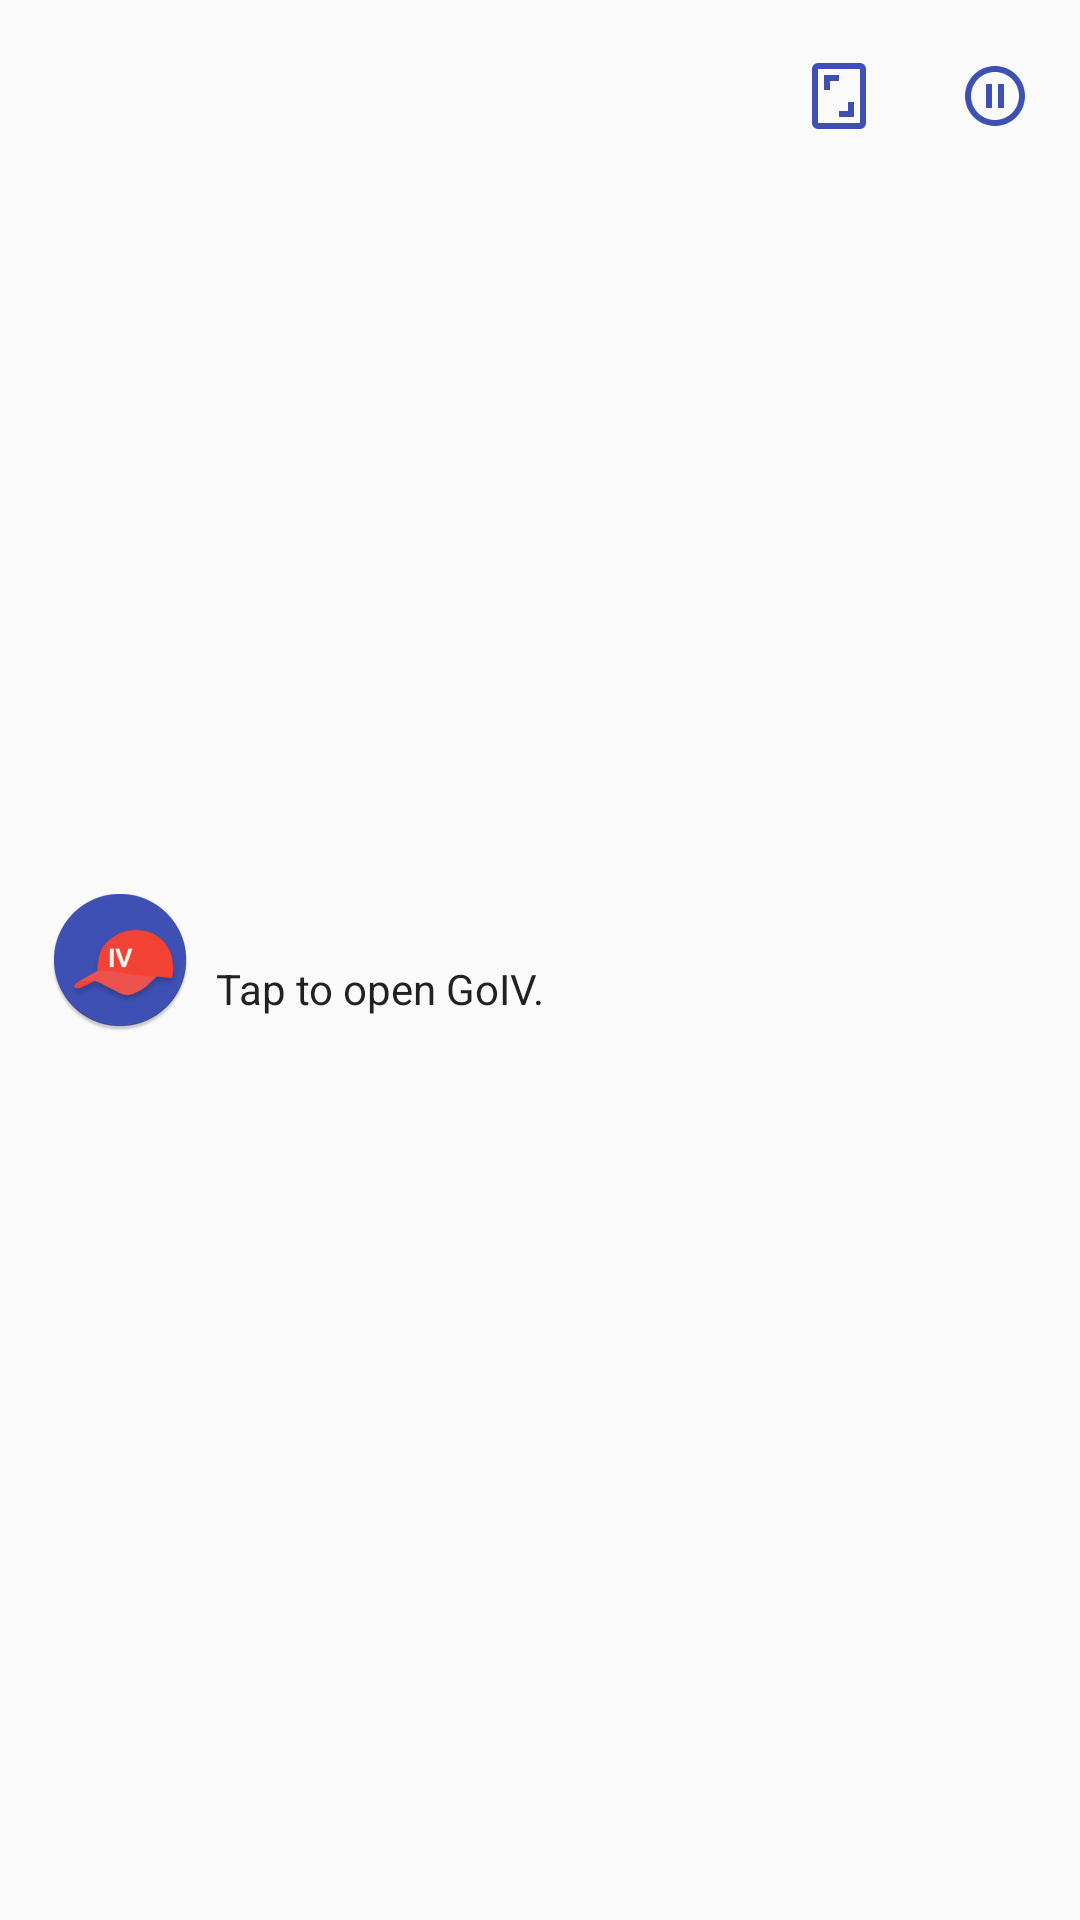

Point at icon controls on the screen. Image size 1080 × 1920, points as (x=x, y=y).
Pause: (x=995, y=96)
